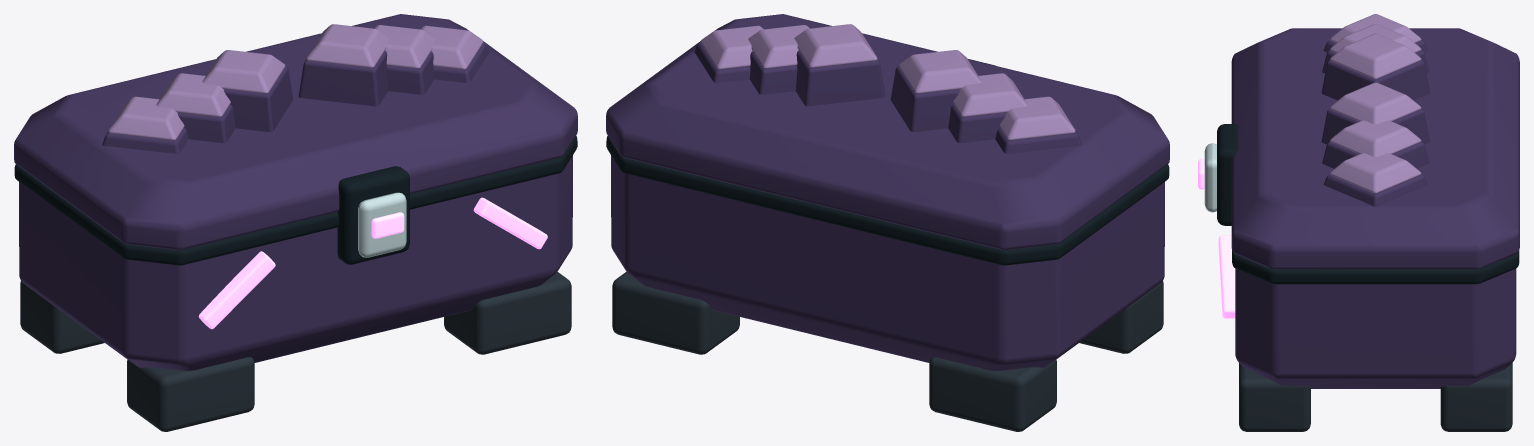
File: salvage_cache.glb
3 renders of one model, left to right at view 1: azimuth 30°, elevation 25°; view 2: azimuth 150°, elevation 25°; view 3: azimuth 270°, elevation 25°, orthographic. The views are drawn at different scales.
Parts seen in each view (by area): view 1: Split core containment vault; view 2: Split core containment vault; view 3: Split core containment vault.
Part boxes in pixels (x1=…): Split core containment vault: x1=14, y1=14, x2=577, y2=431; Split core containment vault: x1=606, y1=14, x2=1169, y2=431; Split core containment vault: x1=1198, y1=14, x2=1519, y2=431.
Bounding box in the file's own units: 1.38 × 0.825 × 0.893.
